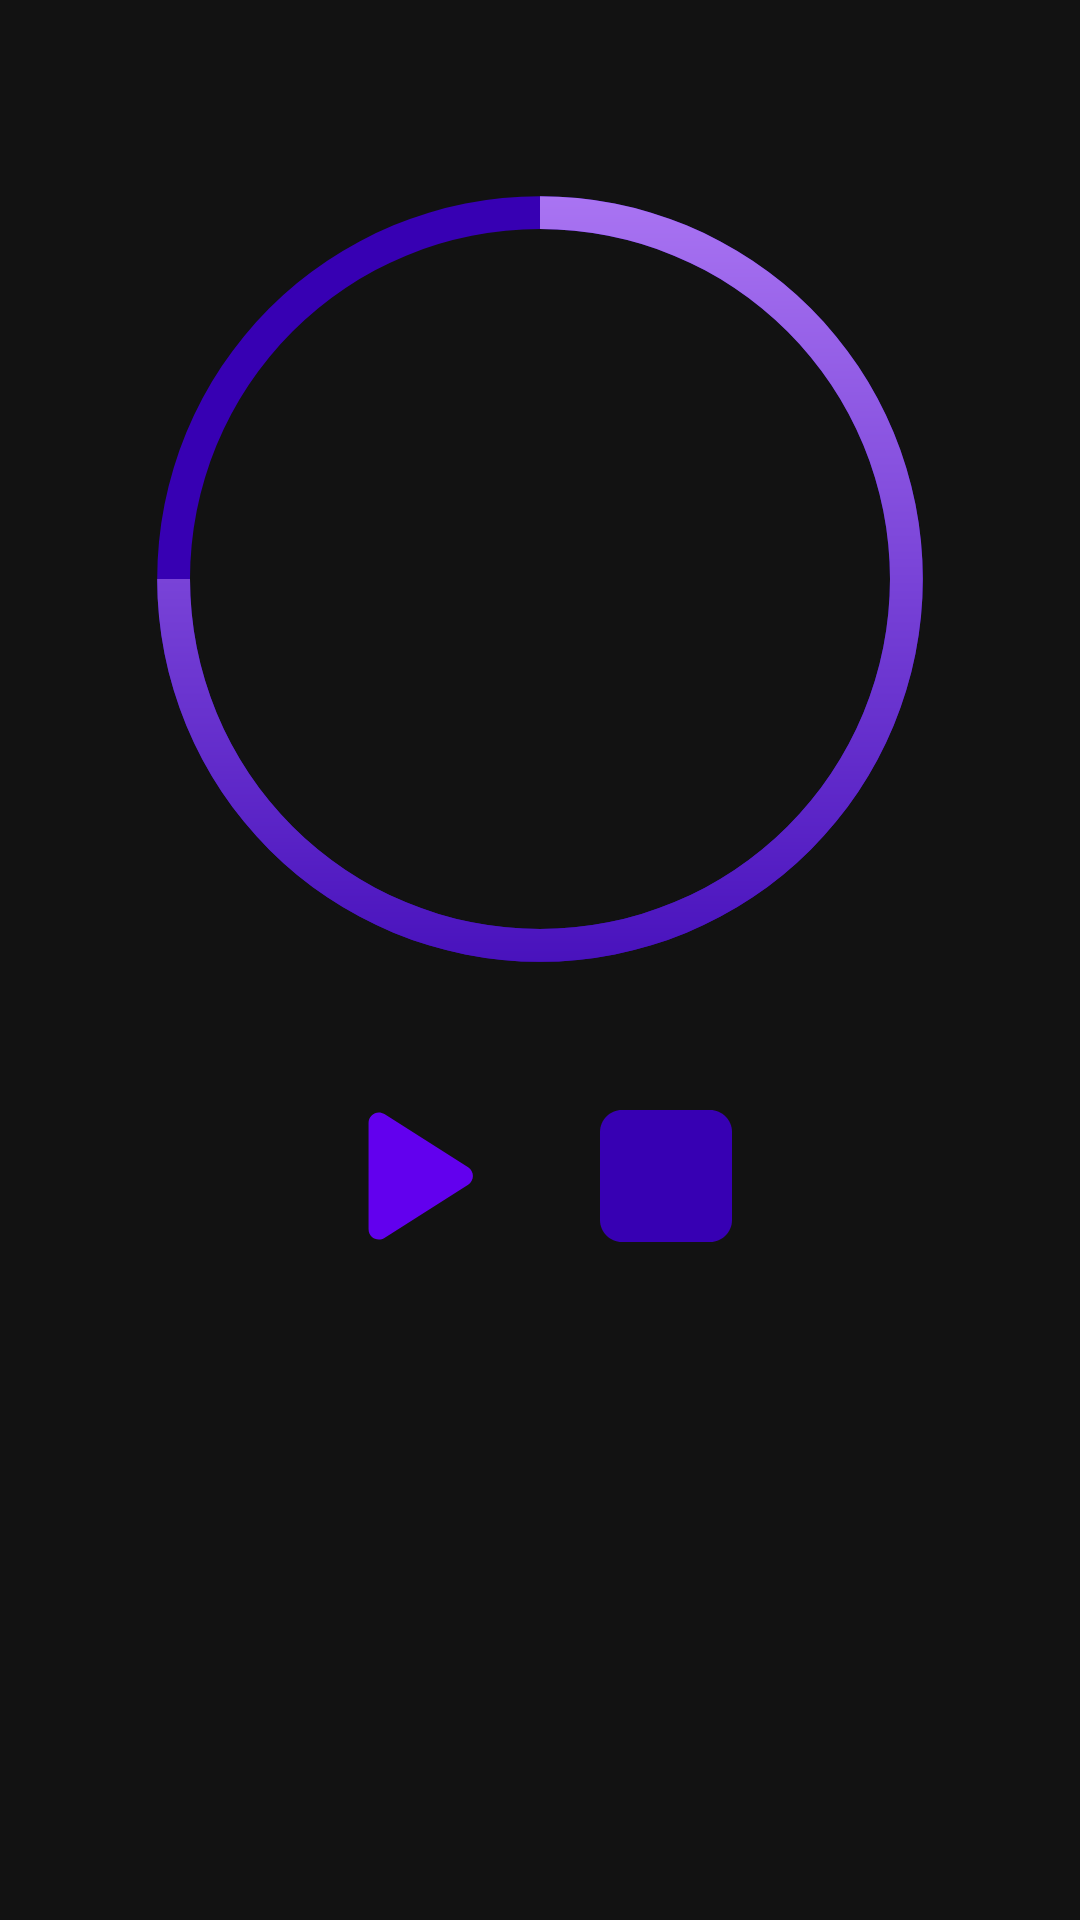

Locate icon controls on the screen. Image size 1080x1920, boxes as bbox=(x1, y1, x2, y2).
Start: bbox=(368, 1112, 473, 1240)
